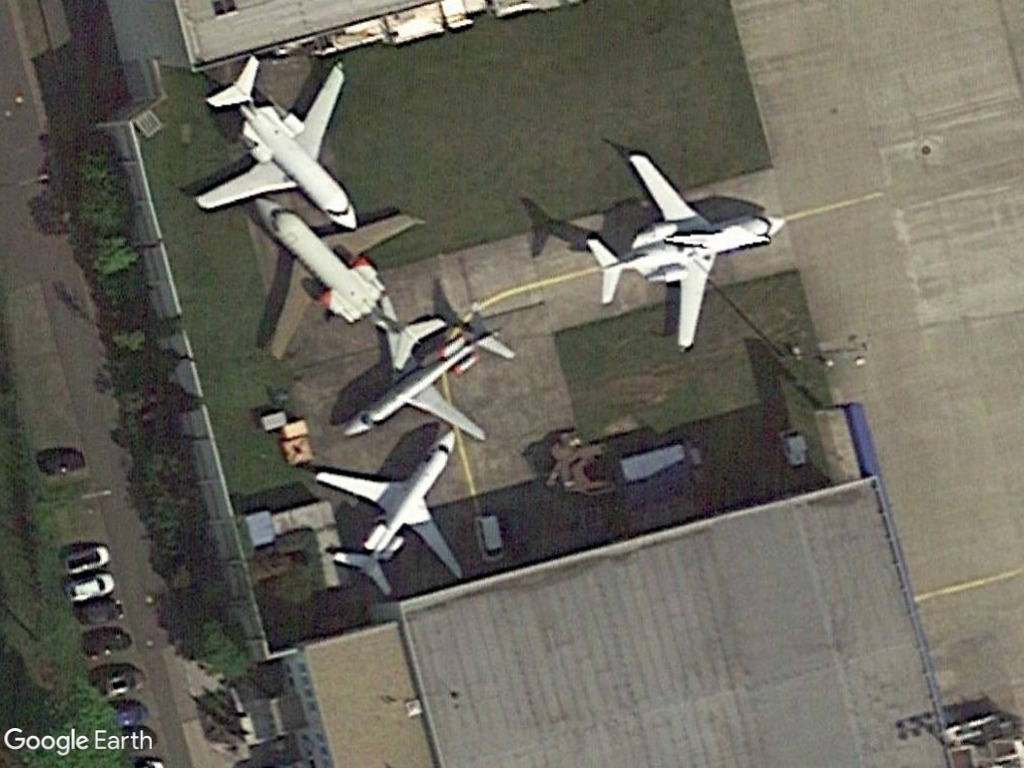chartered: (576, 140, 797, 371), (230, 193, 449, 374), (183, 48, 380, 237), (304, 424, 476, 592)
